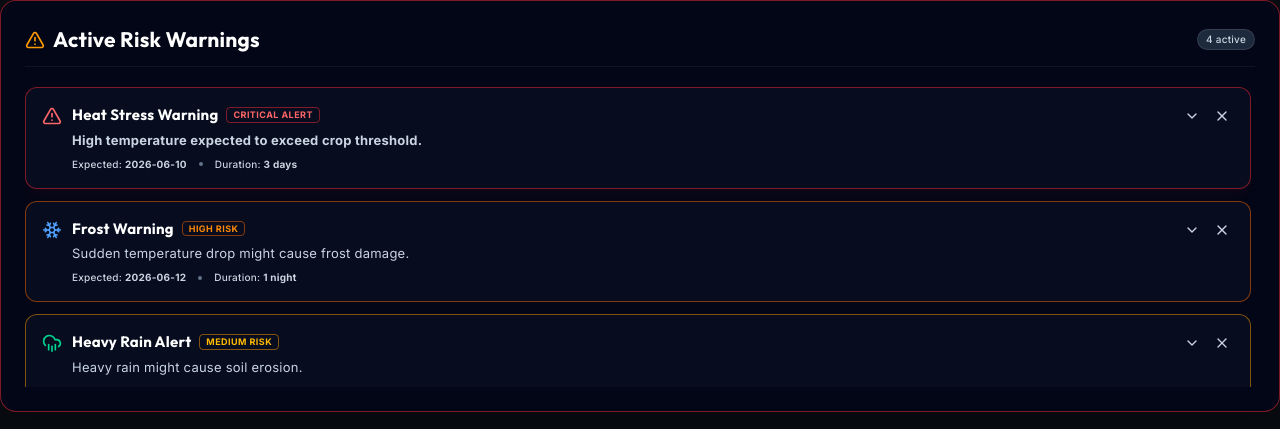
it: RiskAlertCard Component Tests › should dismiss an alert and persist it in localStorage
expect the heading "Heat Stress Warning" is shown: met, box [72,104,218,126]
# Dismiss the critical alert (index 0)
Click the button titled "Dismiss alert" in the row of "Critical Alert". click: (1222, 116)
box: [1210,104,1234,128]
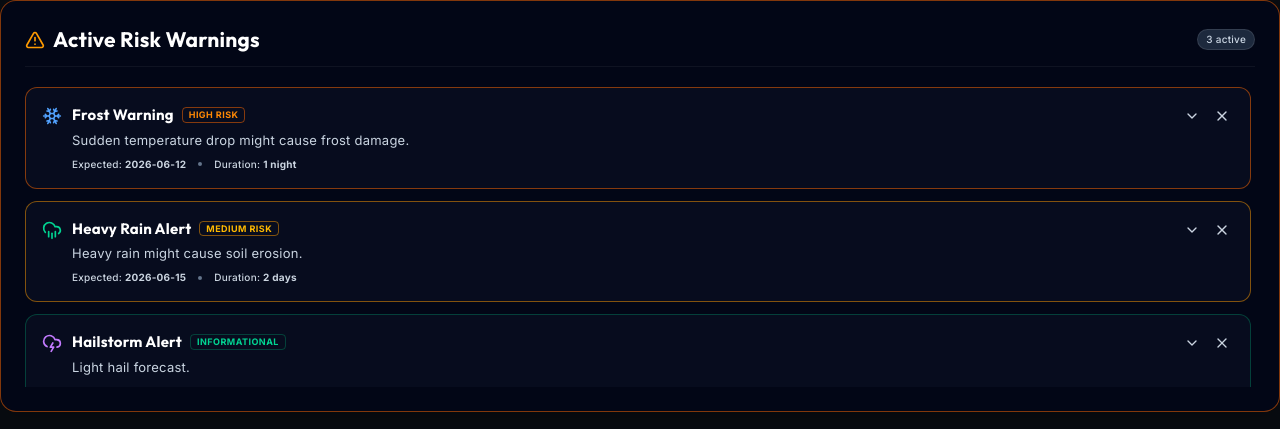
expect the heading "Heat Stress Warning" is gone: met
expect the text "3 active" is shown: met, box [1197,29,1255,50]
